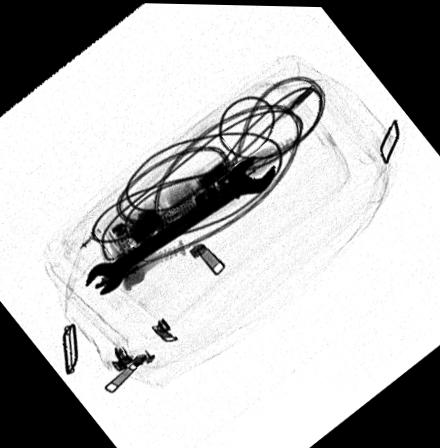Wrench: (79, 151, 278, 293)
